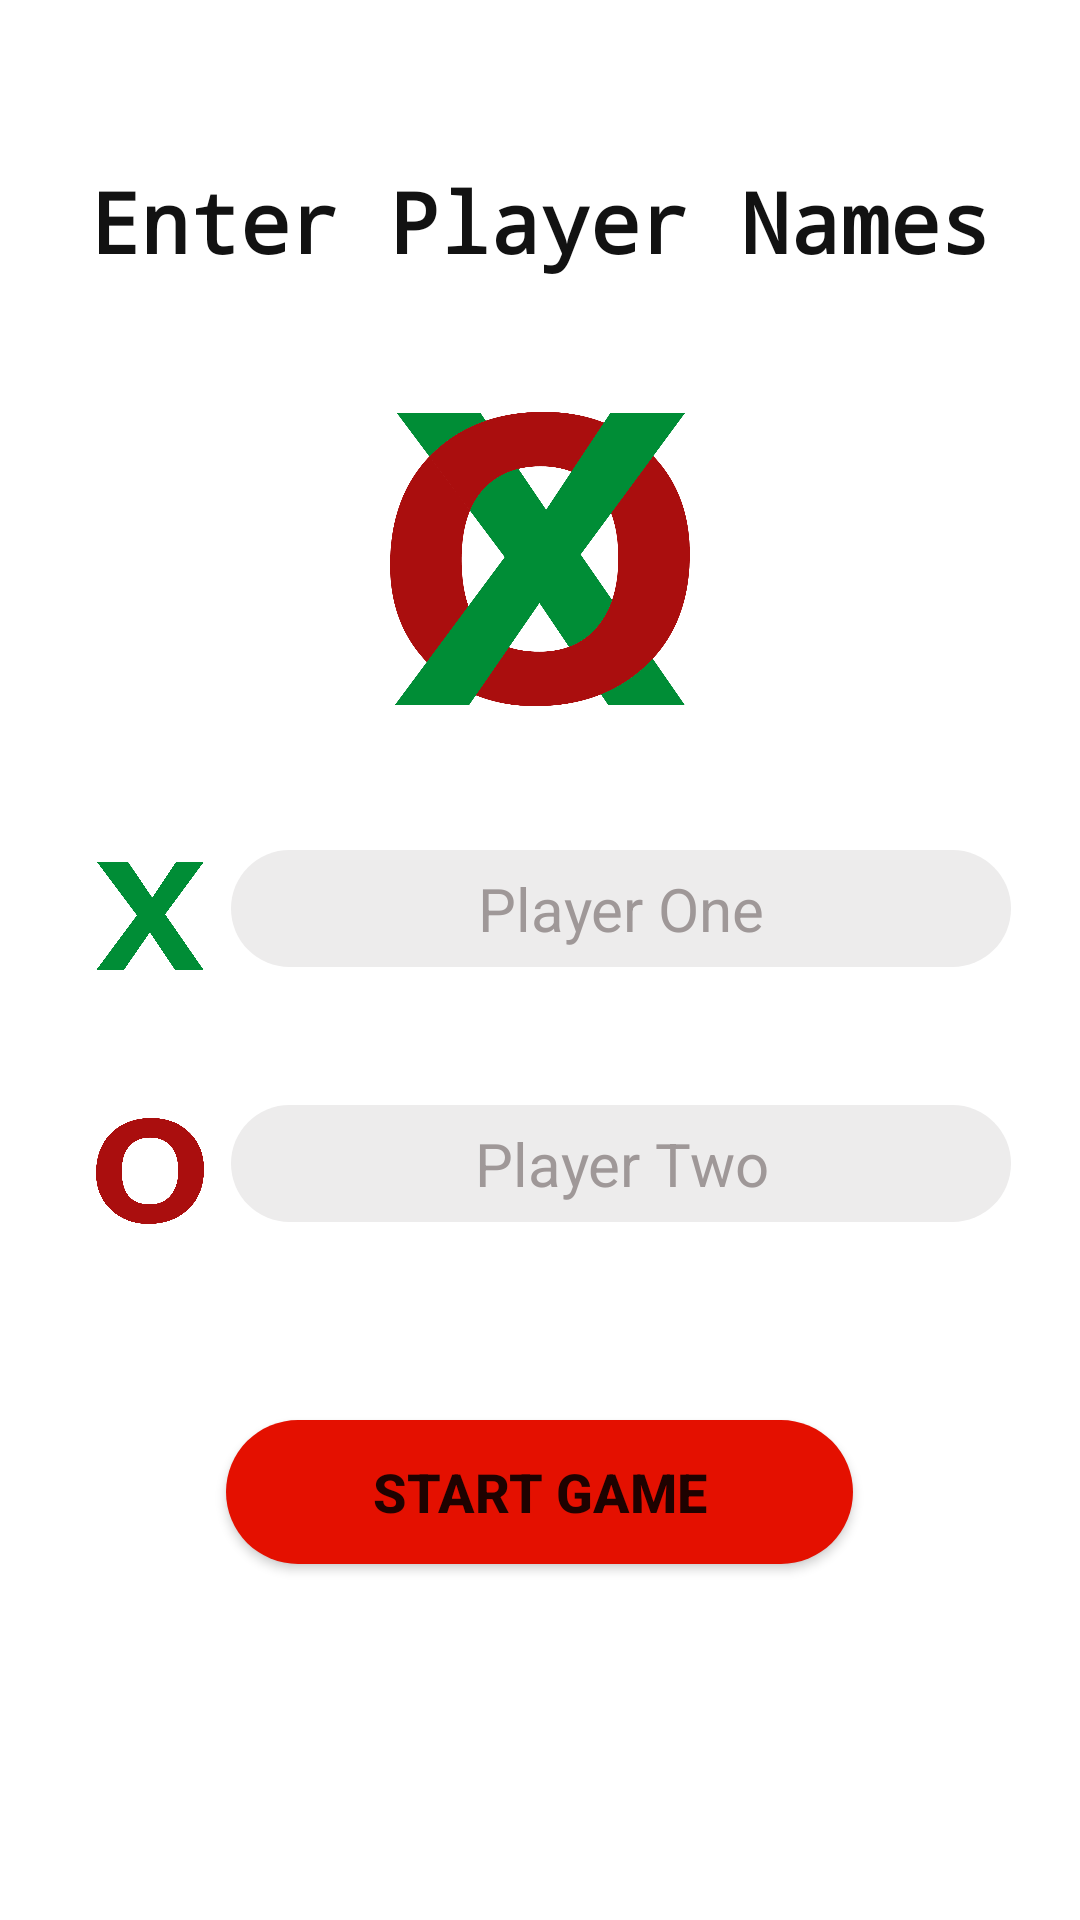

Locate icon controls on the screen. Image size 1080*1920, boxes as {"left": x1, "top": y1, "right": x2, "bottom": y2}.
secound xo: {"left": 390, "top": 412, "right": 690, "bottom": 706}
